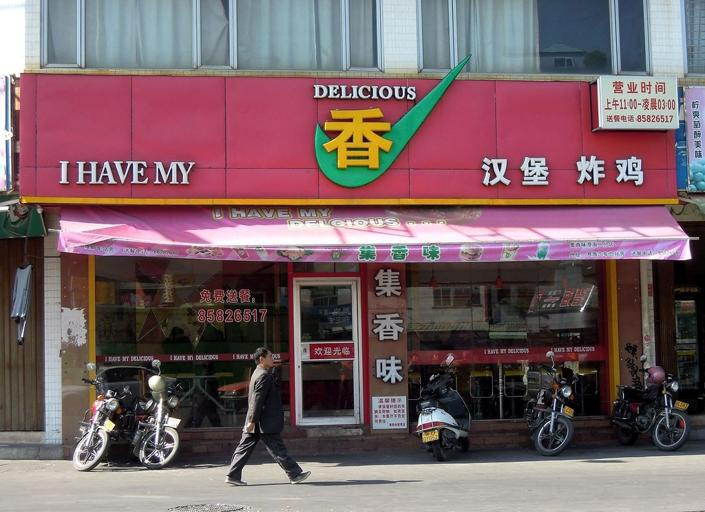non-vehicle: (71, 361, 146, 471), (609, 354, 688, 451), (521, 350, 583, 456), (128, 358, 187, 469), (412, 353, 471, 462)
